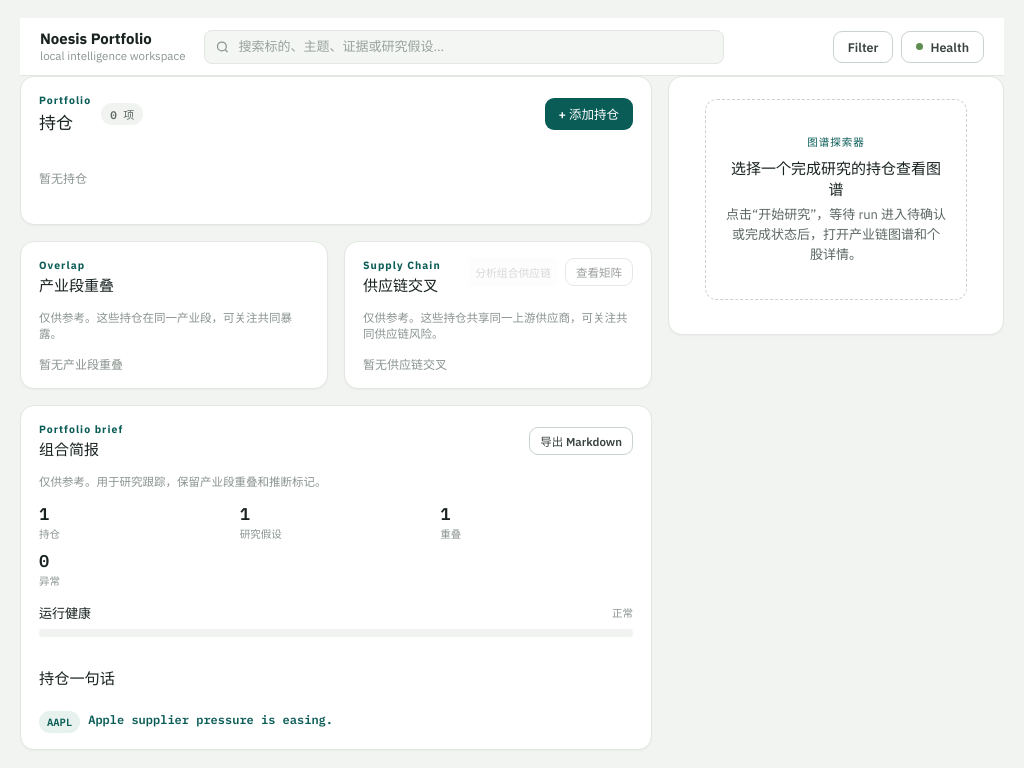
PortfolioHome › requires either symbol or company name before creating a position
Check: the text "暂无持仓" is shown, box [39,171,87,186]
Click the button "+ 添加持仓" at (589, 114), box [544,98,633,130]
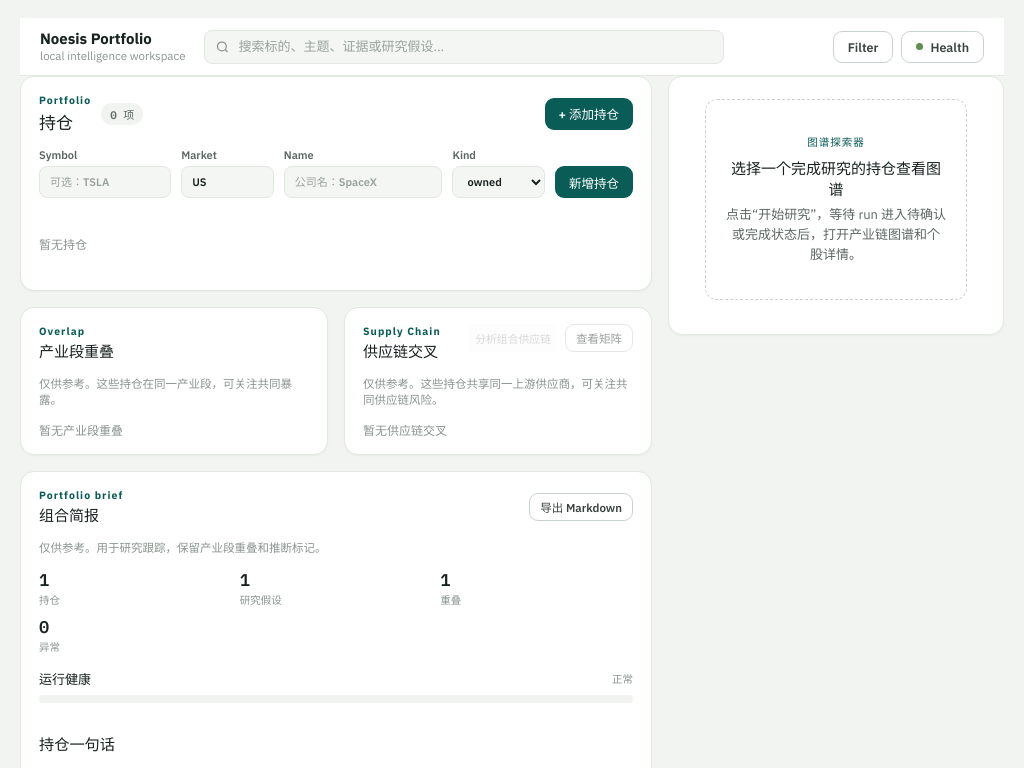
Click the button "新增持仓" at (594, 182), box [555,166,633,198]
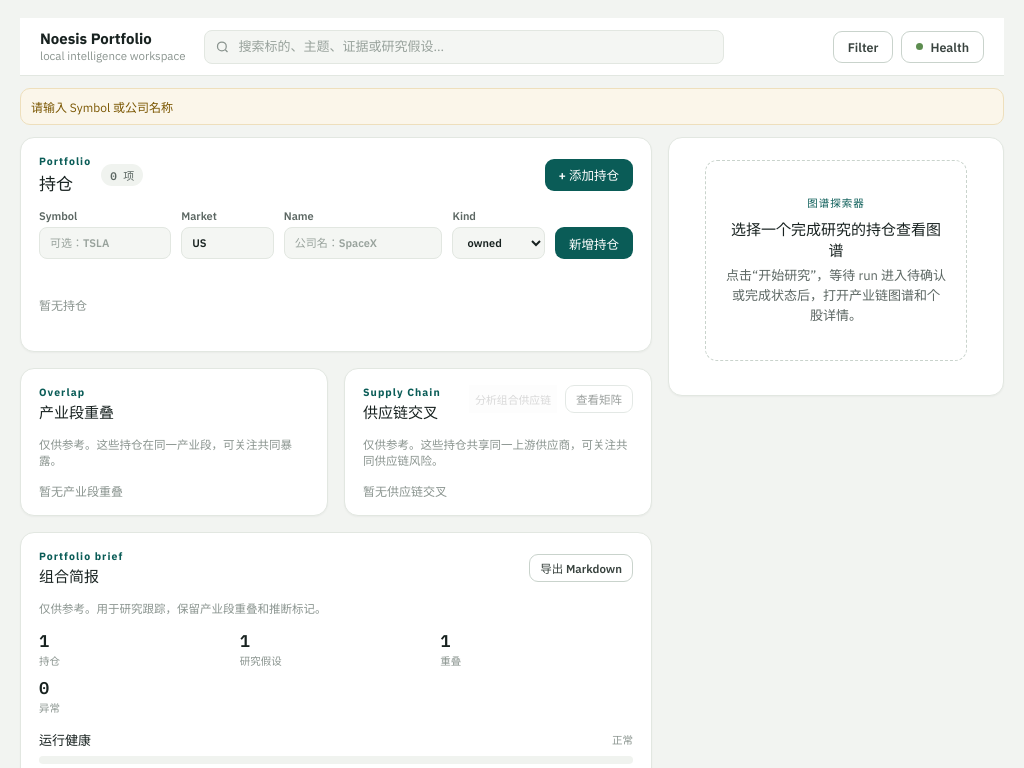
Check: the text "请输入 Symbol 或公司名称" is shown, box [20,88,1004,125]
